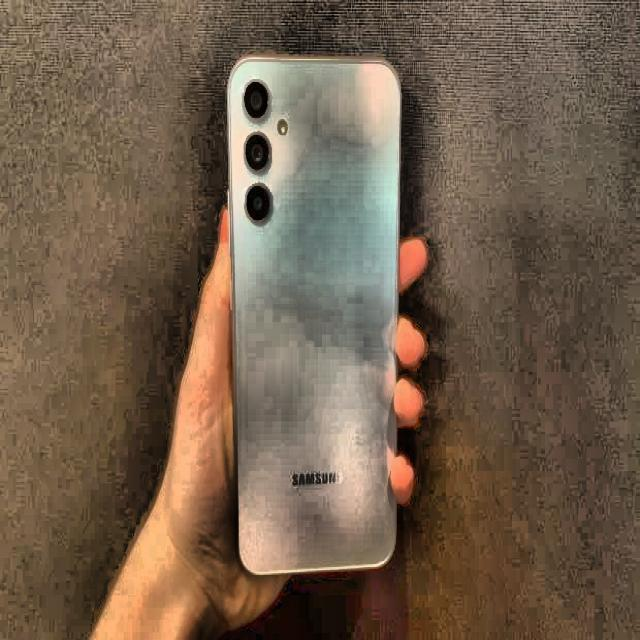Phone: (226, 54, 404, 578)
